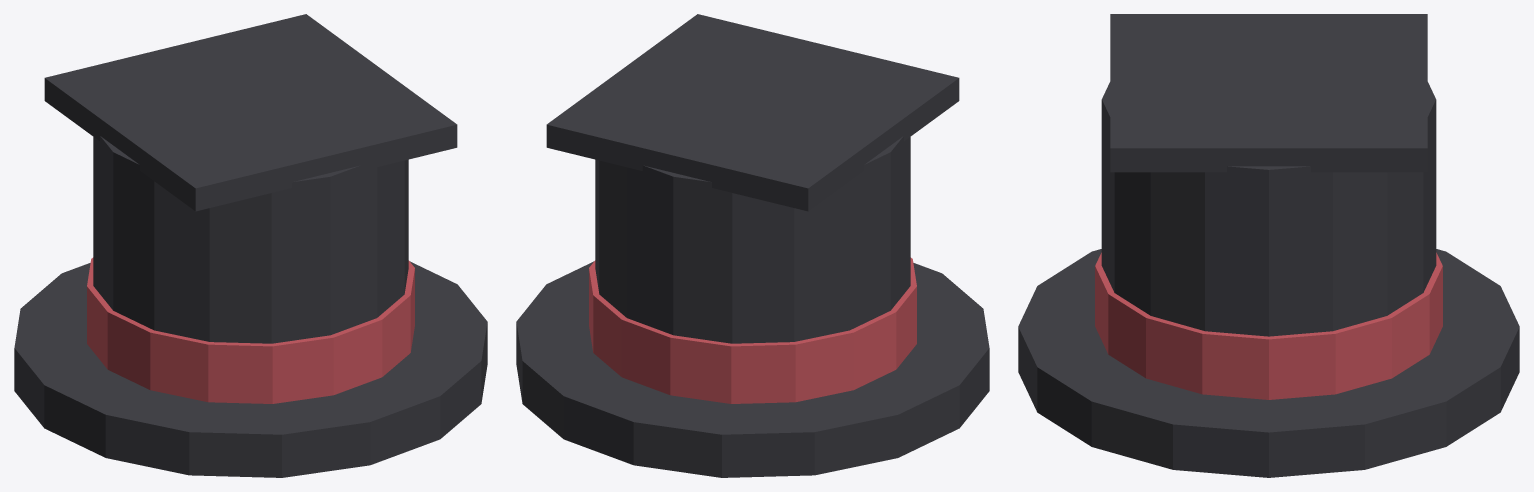
The model's file is top_hat.glb.
The picture shows the model from 3 angles, left to right: view 1: azimuth 30°, elevation 25°; view 2: azimuth 150°, elevation 25°; view 3: azimuth 270°, elevation 25°; orthographic projection. The views are drawn at different scales.
Parts seen in each view (by area): view 1: deckel, kopf, krempe, band.001; view 2: deckel, kopf, krempe, band.001; view 3: krempe, kopf, deckel, band.001.
Part boxes in pixels (x1=…): deckel: x1=44, y1=14, x2=457, y2=211; kopf: x1=93, y1=136, x2=408, y2=343; krempe: x1=14, y1=261, x2=487, y2=477; band.001: x1=87, y1=257, x2=414, y2=403; deckel: x1=546, y1=14, x2=959, y2=211; kopf: x1=595, y1=136, x2=910, y2=343; krempe: x1=516, y1=261, x2=989, y2=477; band.001: x1=589, y1=257, x2=916, y2=403; krempe: x1=1018, y1=249, x2=1519, y2=477; kopf: x1=1101, y1=82, x2=1436, y2=336; deckel: x1=1110, y1=14, x2=1427, y2=172; band.001: x1=1095, y1=252, x2=1442, y2=399.
Bounding box in the file's own units: 0.15 × 0.096 × 0.15.
